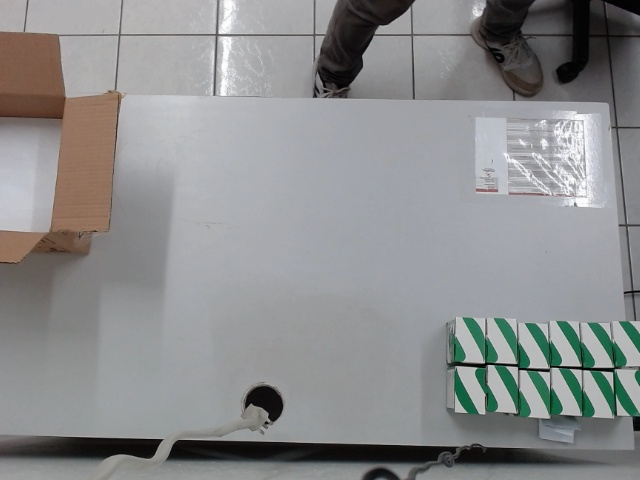caixa_principal: (0, 23, 123, 278)
